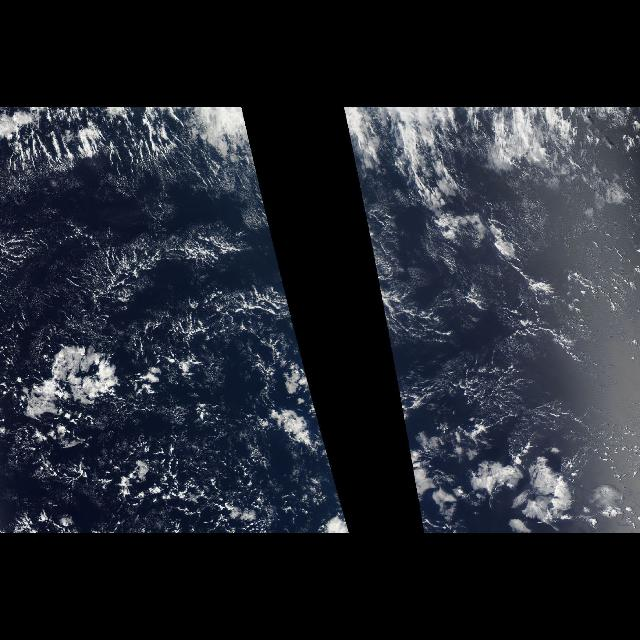Sugar: (2, 174, 306, 370)
